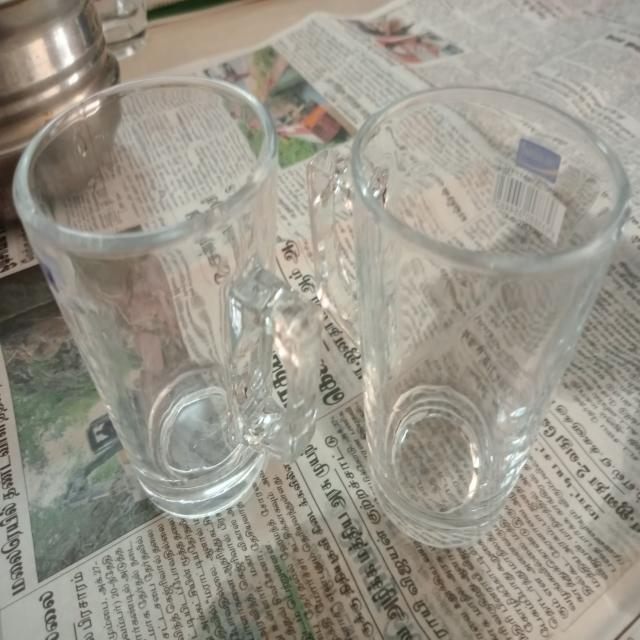glass-VX4N: (303, 77, 640, 550), (8, 66, 326, 515)
